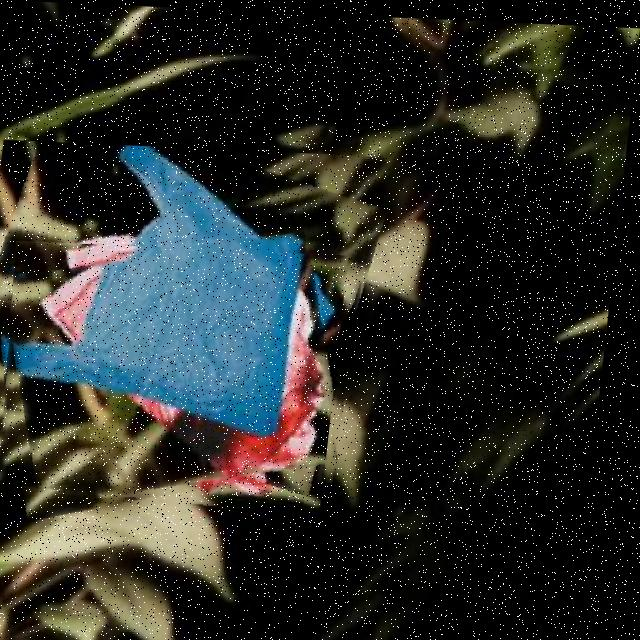litter: (0, 140, 384, 480), (0, 240, 354, 514)
